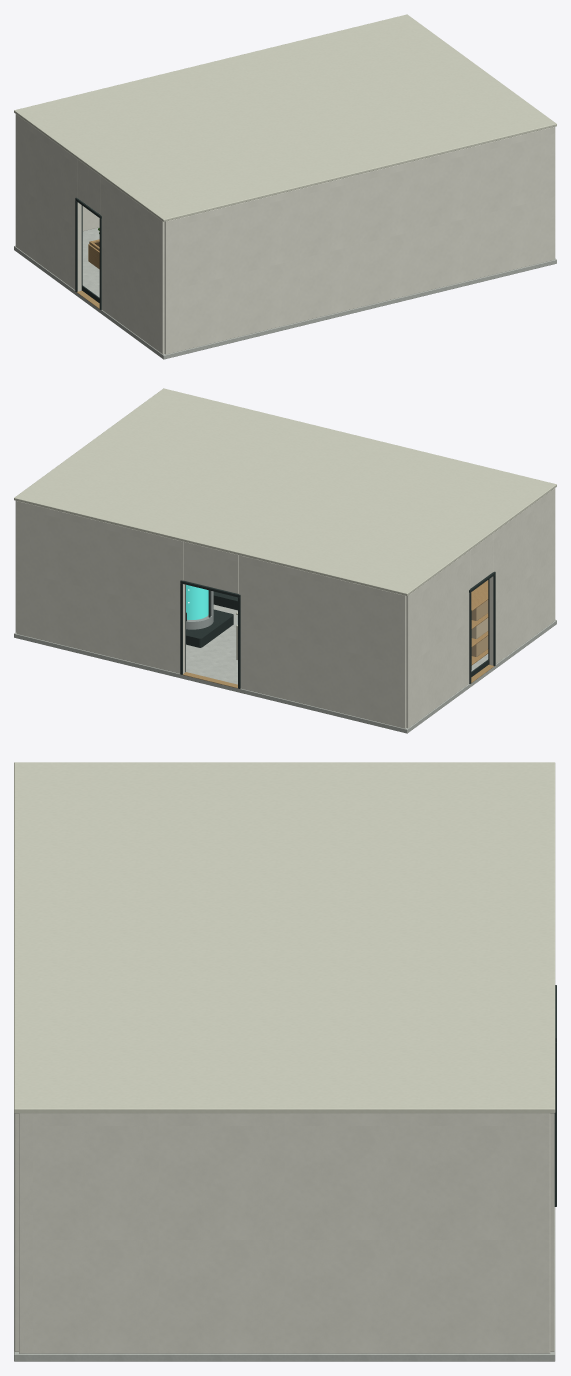
The model's file is room.glb.
The picture shows the model from 3 angles, top to bottom: view 1: azimuth 30°, elevation 25°; view 2: azimuth 150°, elevation 25°; view 3: azimuth 270°, elevation 25°; orthographic projection. The views are drawn at different scales.
Parts seen in each view (by area): view 1: Interior.Ceiling.Ivory_enamel, Interior.Wall.002, Interior.WestShell.Warm_plaster, Interior.Floor.001, Interior.WestShell.Dark_powder_coated_steel; view 2: Interior.Ceiling.Ivory_enamel, Interior.NorthShell.Warm_plaster, Interior.WestShell.Warm_plaster, Interior.Floor.001, Interior.bioreactor-1.Dark_powder_coated_steel, Interior.WestShell.Dark_powder_coated_steel, Interior.NorthShell.Dark_powder_coated_steel, Interior.BioFluid, Interior.growing-supplies.Natural_oak, Interior.VesselGlass, Interior.growing-supplies.Kraft_cardboard; view 3: Interior.Ceiling.Ivory_enamel, Interior.Wall.005, Interior.Floor.001, Interior.NorthShell.Warm_plaster, Interior.Wall.002.
Part boxes in pixels (box(x1,y1,x2,y2)): Interior.Ceiling.Ivory_enamel: box(14, 14, 556, 221); Interior.Wall.002: box(164, 127, 554, 354); Interior.WestShell.Warm_plaster: box(15, 114, 164, 354); Interior.Floor.001: box(14, 227, 556, 359); Interior.WestShell.Dark_powder_coated_steel: box(75, 197, 101, 309); Interior.Ceiling.Ivory_enamel: box(14, 388, 556, 595); Interior.NorthShell.Warm_plaster: box(16, 501, 406, 728); Interior.WestShell.Warm_plaster: box(406, 488, 555, 728); Interior.Floor.001: box(14, 604, 556, 733); Interior.bioreactor-1.Dark_powder_coated_steel: box(186, 590, 233, 647); Interior.WestShell.Dark_powder_coated_steel: box(469, 571, 495, 683); Interior.NorthShell.Dark_powder_coated_steel: box(180, 580, 240, 688); Interior.BioFluid: box(186, 584, 208, 619); Interior.growing-supplies.Natural_oak: box(471, 580, 488, 665); Interior.VesselGlass: box(186, 585, 207, 620); Interior.growing-supplies.Kraft_cardboard: box(471, 600, 488, 656); Interior.Ceiling.Ivory_enamel: box(14, 762, 555, 1113); Interior.Wall.005: box(19, 1113, 550, 1353); Interior.Floor.001: box(14, 1113, 555, 1361); Interior.NorthShell.Warm_plaster: box(550, 1113, 554, 1351); Interior.Wall.002: box(14, 1113, 18, 1351).
Bounding box in the file's own units: 11.77 × 3.99 × 7.77.
28 materials, 16 textured.
